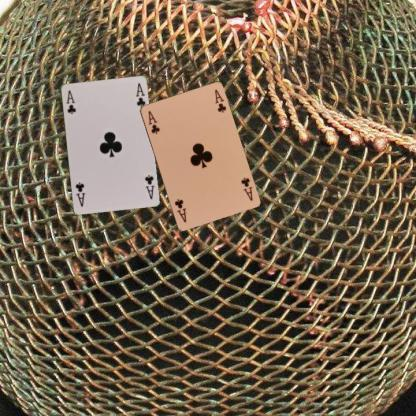Ac: (238, 175, 254, 202), (142, 172, 156, 201), (63, 87, 77, 115), (146, 108, 160, 135)
